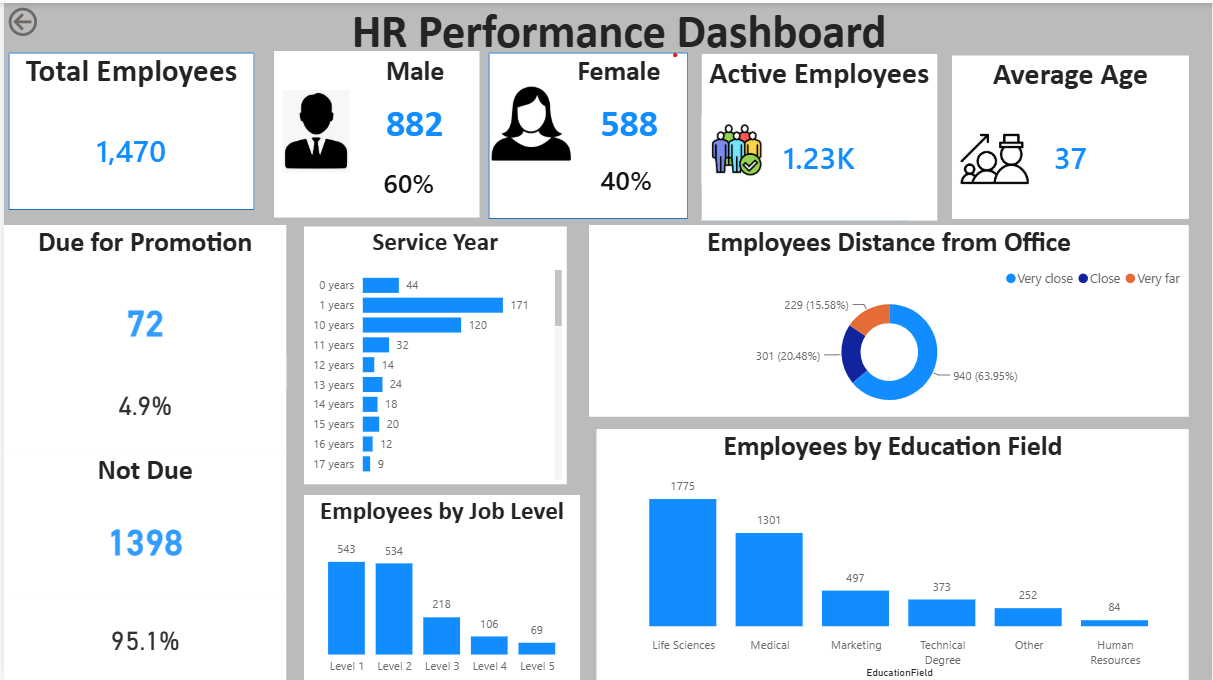

This screenshot's page, from the dashboard's own definition file:
{"tool":"powerbi","page":{"name":"Home","canvas":[1280,720],"ordinal":0},"visuals":[{"type":"actionButton","box":[0,0,100,40],"z":0},{"type":"cardVisual","title":"Total Employees","fields":{"Data":["All Measures.Total Emp"]},"box":[35,321.3,264,179.7],"z":1000},{"type":"cardVisual","title":"Male","fields":{"Data":["All Measures.Male"]},"box":[135.2,122.5,152.7,79.5],"z":2000},{"type":"cardVisual","title":"Male","fields":{"Data":["All Measures.% male"]},"box":[119.3,195.6,168.6,98.6],"z":3000},{"type":"image","box":[20.7,128.8,57.3,66.8],"z":6000},{"type":"cardVisual","title":"   Due for Promotion","fields":{"Data":["All Measures.Due for Promotions"]},"box":[0,235.4,299,171.8],"z":8000},{"type":"cardVisual","title":"Due for Promotion","fields":{"Data":["All Measures.% Due for promotion"]},"box":[0,373.8,299,103.4],"z":9000},{"type":"cardVisual","title":"Due for Promotion","fields":{"Data":["All Measures.% Not due"]},"box":[0,629.9,299,90.7],"z":10000},{"type":"cardVisual","title":"    Not Due","fields":{"Data":["All Measures.Not due"]},"box":[0,477.2,299,152.7],"z":11000},{"type":"shape","box":[0,179.7,299,232.2],"z":12000},{"type":"barChart","title":"Service Year","fields":{"Category":["HR Analytics Data.Service Year"],"Y":["All Measures.Total Emp"]},"box":[318.1,237,278.4,273.6],"z":13000},{"type":"columnChart","title":" Employees by Job Level","fields":{"Y":["All Measures.Total Emp"],"Category":["HR Analytics Data.Job Levels"]},"box":[318.1,521.7,292.7,198.8],"z":14000},{"type":"columnChart","title":"Employees by Education Field","fields":{"Category":["HR Analytics Data.EducationField"],"Y":["Sum(HR Analytics Data.Education)"]},"box":[628.3,451.7,628.3,268.8],"z":15000},{"type":"donutChart","title":"Employees Distance from Office","fields":{"Category":["HR Analytics Data.Distance Status"],"Y":["All Measures.Total Emp"]},"box":[620.3,235.4,636.2,203.6],"z":16000},{"type":"cardVisual","title":"Average Age","fields":{"Data":["Avg(HR Analytics Data.Age)"]},"box":[1005.3,55.7,251.3,173.4],"z":17000},{"type":"shape","title":"HR Performance Dashboard","box":[23.9,0,1256.6,52.5],"z":18000},{"type":"shape","box":[4.8,52.5,260.9,167],"z":19000},{"type":"cardVisual","title":"Total Employees","fields":{"Data":["All Measures.Total Emp"]},"box":[4.8,50.9,260.9,167],"z":20000},{"type":"shape","box":[286.3,50.9,217.9,176.6],"z":21000},{"type":"cardVisual","title":"Male","fields":{"Data":["All Measures.Male"]},"box":[367.4,54.1,136.8,108.2],"z":22000},{"type":"cardVisual","fields":{"Data":["All Measures.% male"]},"box":[367.4,152.7,124.1,73.2],"z":23000},{"type":"shape","box":[513.8,52.5,211.6,176.6],"z":23001},{"type":"shape","box":[739.6,54.1,219.5,176.6],"z":23002},{"type":"cardVisual","title":"Female","fields":{"Data":["All Measures.Female"]},"box":[602.8,54.1,120.9,108.2],"z":23003},{"type":"cardVisual","fields":{"Data":["All Measures.% Female"]},"box":[596.5,146.3,127.2,79.5],"z":23004},{"type":"image","box":[265.6,92.3,130.4,87.5],"z":23005},{"type":"image","box":[513.8,85.9,90.7,84.3],"z":23006},{"type":"cardVisual","title":"Active Employees","fields":{"Data":["CountNonNull(HR Analytics Data.EmployeeCount)"]},"box":[739.6,54.1,249.7,176.6],"z":23007},{"type":"image","box":[739.6,81.1,74.8,149.5],"z":23008},{"type":"image","box":[1005.3,111.3,90.7,108.2],"z":23009}]}

Visuals, with their boxes in screenshot pixels (x1, y1, x2, y2), scaled from the page's 1280x720 canvas onto the 1213x680 screenshot:
actionButton: bbox=[0, 0, 95, 38]
"Total Employees" cardVisual: bbox=[33, 303, 283, 473]
"Male" cardVisual: bbox=[128, 116, 273, 191]
"Male" cardVisual: bbox=[113, 185, 273, 278]
image: bbox=[20, 122, 74, 185]
"   Due for Promotion" cardVisual: bbox=[0, 222, 283, 385]
"Due for Promotion" cardVisual: bbox=[0, 353, 283, 451]
"Due for Promotion" cardVisual: bbox=[0, 595, 283, 679]
"    Not Due" cardVisual: bbox=[0, 451, 283, 595]
shape: bbox=[0, 170, 283, 389]
"Service Year" barChart: bbox=[301, 224, 565, 482]
" Employees by Job Level" columnChart: bbox=[301, 493, 579, 679]
"Employees by Education Field" columnChart: bbox=[595, 427, 1191, 679]
"Employees Distance from Office" donutChart: bbox=[588, 222, 1191, 415]
"Average Age" cardVisual: bbox=[953, 53, 1191, 216]
"HR Performance Dashboard" shape: bbox=[23, 0, 1212, 50]
shape: bbox=[5, 50, 252, 207]
"Total Employees" cardVisual: bbox=[5, 48, 252, 206]
shape: bbox=[271, 48, 478, 215]
"Male" cardVisual: bbox=[348, 51, 478, 153]
cardVisual - All Measures.% male: bbox=[348, 144, 466, 213]
shape: bbox=[487, 50, 687, 216]
shape: bbox=[701, 51, 909, 218]
"Female" cardVisual: bbox=[571, 51, 686, 153]
cardVisual - All Measures.% Female: bbox=[565, 138, 686, 213]
image: bbox=[252, 87, 375, 170]
image: bbox=[487, 81, 573, 161]
"Active Employees" cardVisual: bbox=[701, 51, 938, 218]
image: bbox=[701, 77, 772, 218]
image: bbox=[953, 105, 1039, 207]
